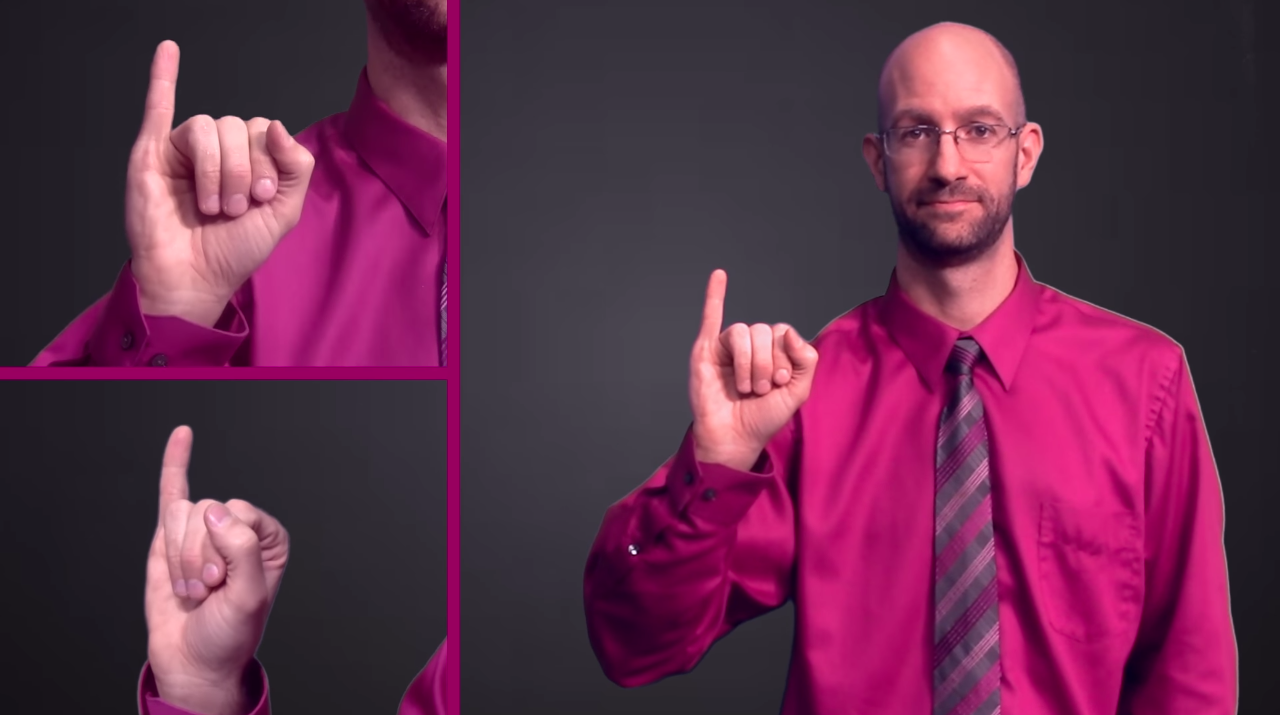i: (94, 23, 349, 316), (118, 412, 304, 715), (674, 256, 828, 482)
